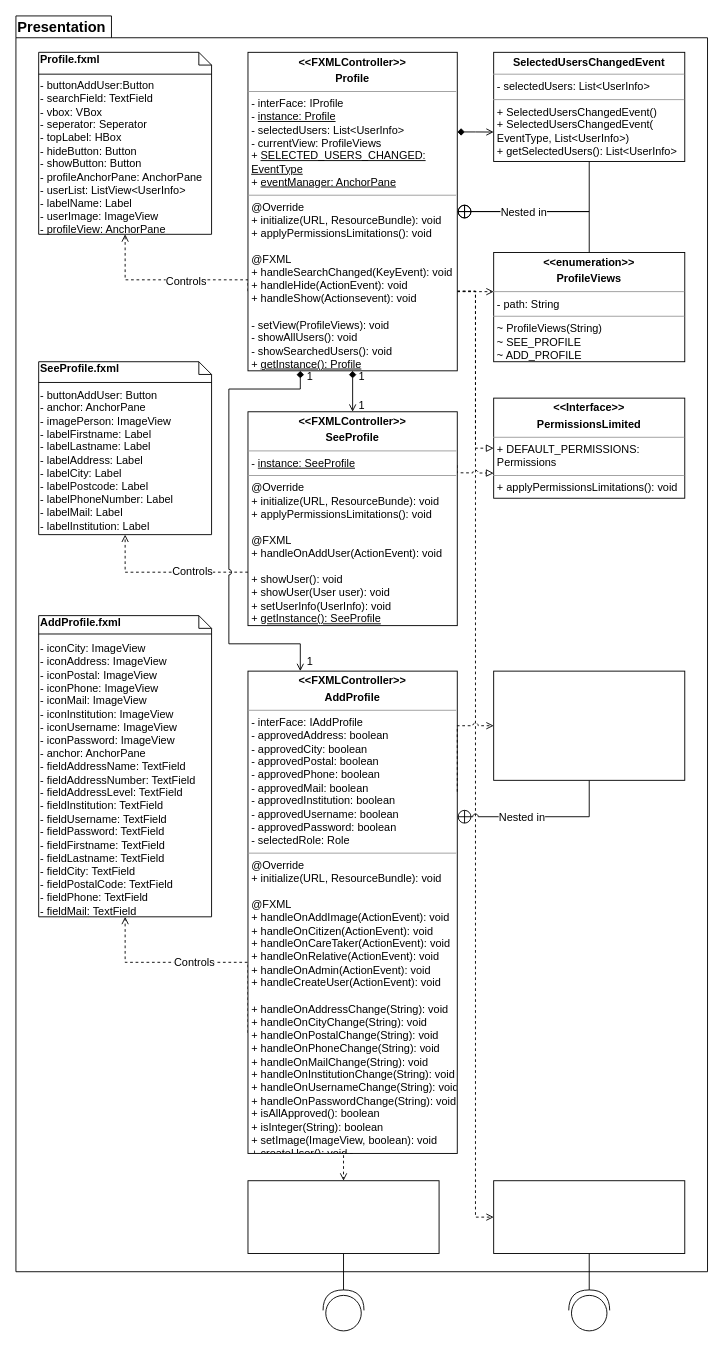
Image size: 723x1347. Some labels were removed from this diagram. The centre of each missing label's shape, as x and y in pixels:
<<enumeration>> Icons - iconPath: String ~ Icons(String) ~ WARNING ~ APPROVED: point 589,725
<<Interface>> IAddProfile + addUser(User): void: point 343,1217
<<Interface>> IProfile + getUsersFromInstitution(int): List<UserInfo>: point 589,1217
